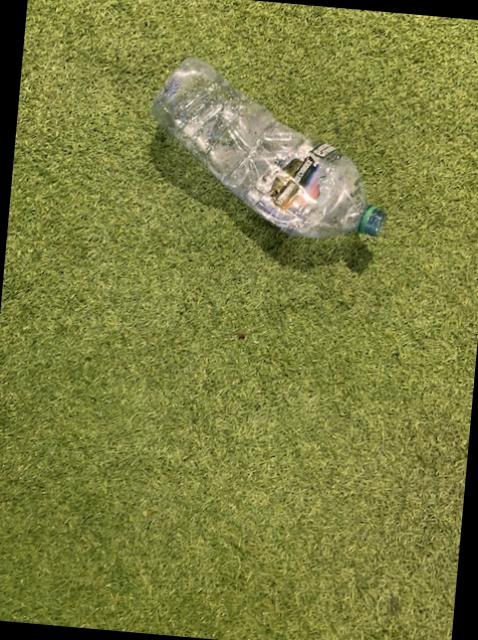plastic: (153, 57, 386, 236)
